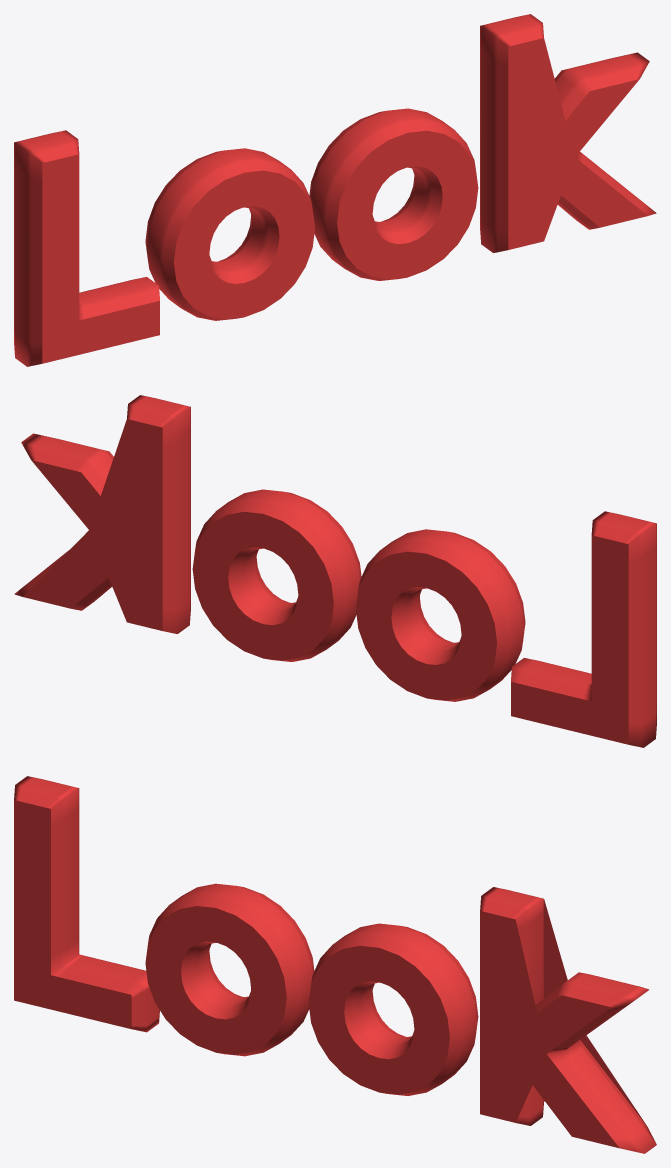
Rendered from Look.fbx.
3 views of the same model, one above another, from view 1: azimuth 30°, elevation 25°; view 2: azimuth 150°, elevation 25°; view 3: azimuth 330°, elevation 25° (orthographic).
Visible parts, largest first — view 1: bevelPolygon5, bevelPolygon3, bevelPolygon4, bevelPolygon1; view 2: bevelPolygon5, bevelPolygon3, bevelPolygon4, bevelPolygon1; view 3: bevelPolygon5, bevelPolygon4, bevelPolygon3, bevelPolygon1.
Boxes of the visible parts, x1,y1,x2,y2 form: bevelPolygon5: (480, 14, 656, 252); bevelPolygon3: (145, 148, 314, 320); bevelPolygon4: (309, 108, 478, 280); bevelPolygon1: (14, 130, 159, 366); bevelPolygon5: (14, 395, 190, 633); bevelPolygon3: (356, 529, 525, 701); bevelPolygon4: (192, 489, 361, 661); bevelPolygon1: (511, 511, 656, 747); bevelPolygon5: (480, 887, 656, 1153); bevelPolygon4: (308, 923, 478, 1095); bevelPolygon3: (145, 883, 314, 1056); bevelPolygon1: (14, 776, 159, 1032).
Bounding box in the file's own units: 8.96 × 3.01 × 0.7.
